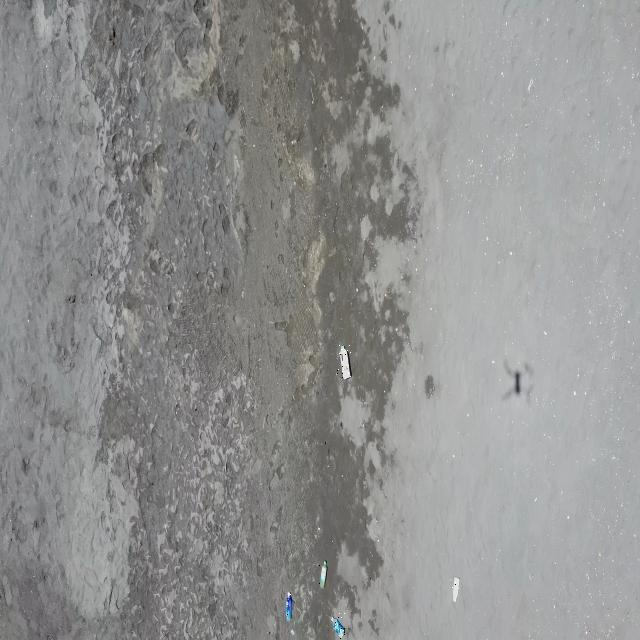plastic-bottle: (337, 345, 351, 381), (330, 613, 346, 639), (319, 559, 328, 589), (452, 574, 460, 604), (285, 593, 293, 621)
